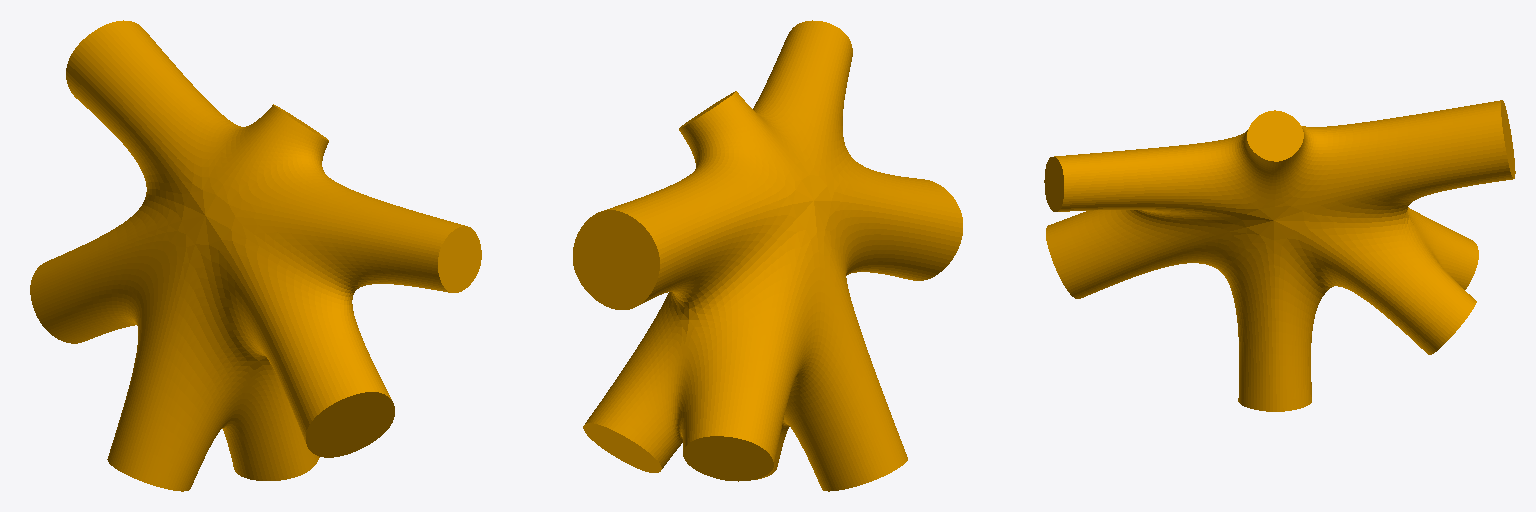
URDF robot description (object):
<robot name="object">
  <link name="object">
    <visual>
      <origin xyz="0 0 0"/>
      <geometry>
        <mesh filename="visual.obj" scale="1 1 1"/>
      </geometry>
    </visual>
    <collision>
      <origin xyz="0 0 0"/>
      <geometry>
        <mesh filename="collision.obj" scale="1 1 1"/>
      </geometry>
    </collision>
    <inertial>
      <mass value="0.05"/>
      <inertia ixx="2.7002483709625553e-05" iyy="1.1229126818605146e-05" izz="2.0640700787824945e-05" ixy="1.1478255522697743e-06" ixz="-1.8551155655822668e-06" iyz="1.682019848251249e-07"/>
    </inertial>
  </link>
</robot>

--- What the picture shows (computed from the rendered views, not written in the file) ---
The picture shows the robot from 3 angles, left to right: view 1: azimuth 30°, elevation 25°; view 2: azimuth 150°, elevation 25°; view 3: azimuth 270°, elevation 25°; orthographic projection.
Model object with 1 links and 0 joints (none), rooted at object, posed all joints at 0.
Links seen in each view (by area): view 1: object; view 2: object; view 3: object.
Link boxes in pixels (<box>): object: <box>30,20,481,491</box>; object: <box>573,20,962,491</box>; object: <box>1044,100,1515,411</box>.
Size in the robot's own frame: 0.0426 by 0.0871 by 0.0604 metres.
Meshes: 1 distinct files referenced, 1 mesh visuals loaded (1 OBJ).
